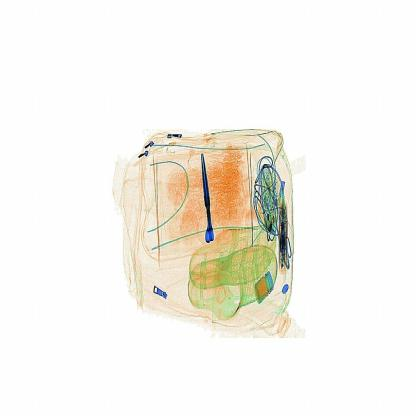gun: (195, 135, 230, 253)
